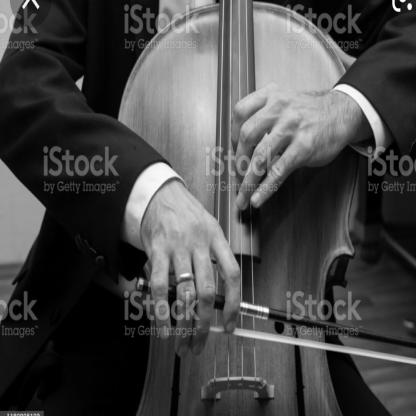good: (134, 164, 242, 352)
